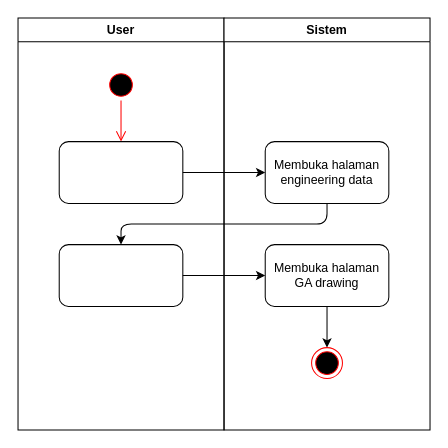
This 448x448 diagram has some shape labels left out. The shapes that lost their labels are listed below. From the top down, each one's box as (x1, y1, x2, y2) in pixels, then its label:
(58, 141, 183, 203): Pilih fitur engineering data
(58, 244, 183, 306): Pilih salah satu data dengan tekan (icon eye) pada kolom GA drawing
